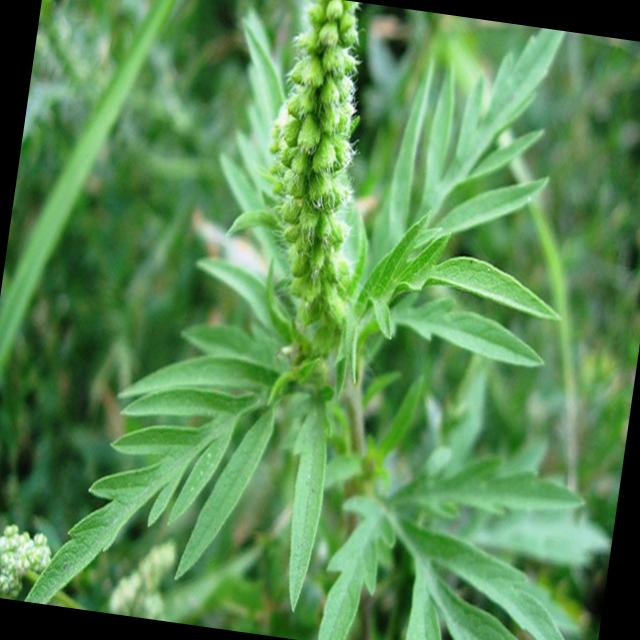ambrosia: (204, 0, 469, 469)
